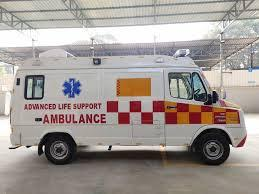ER: (9, 48, 247, 165)
